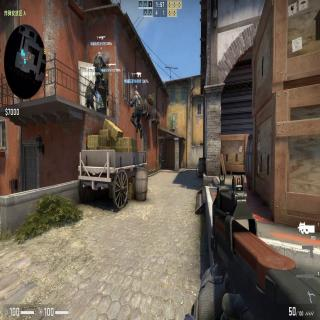CT-Body: (130, 90, 144, 138)
CT-Head: (133, 90, 139, 96)
